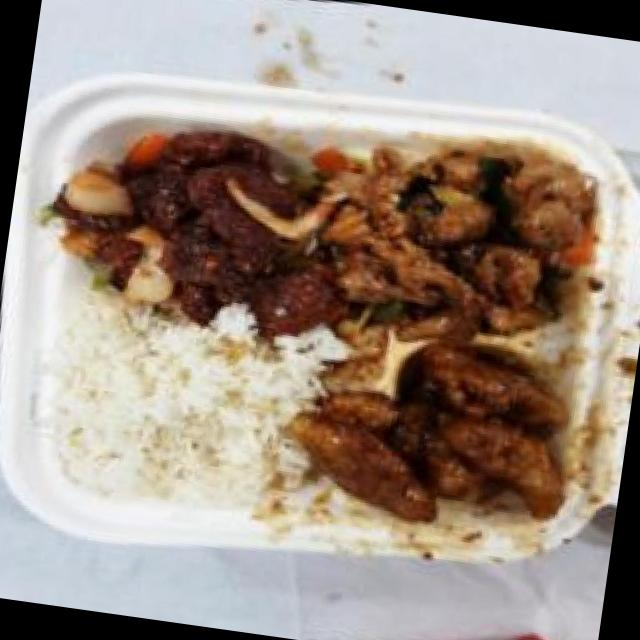Beijing Beef: (30, 89, 342, 340)
Kung Pao Chicken: (288, 103, 620, 371)
The Original Orange Chicken: (280, 310, 601, 558)
White Steamed Rice: (25, 282, 330, 534)
